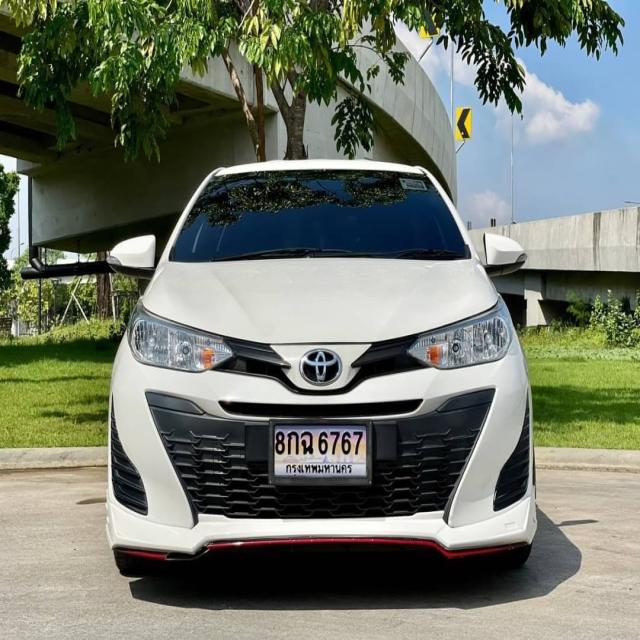license_plate: (269, 416, 374, 488)
